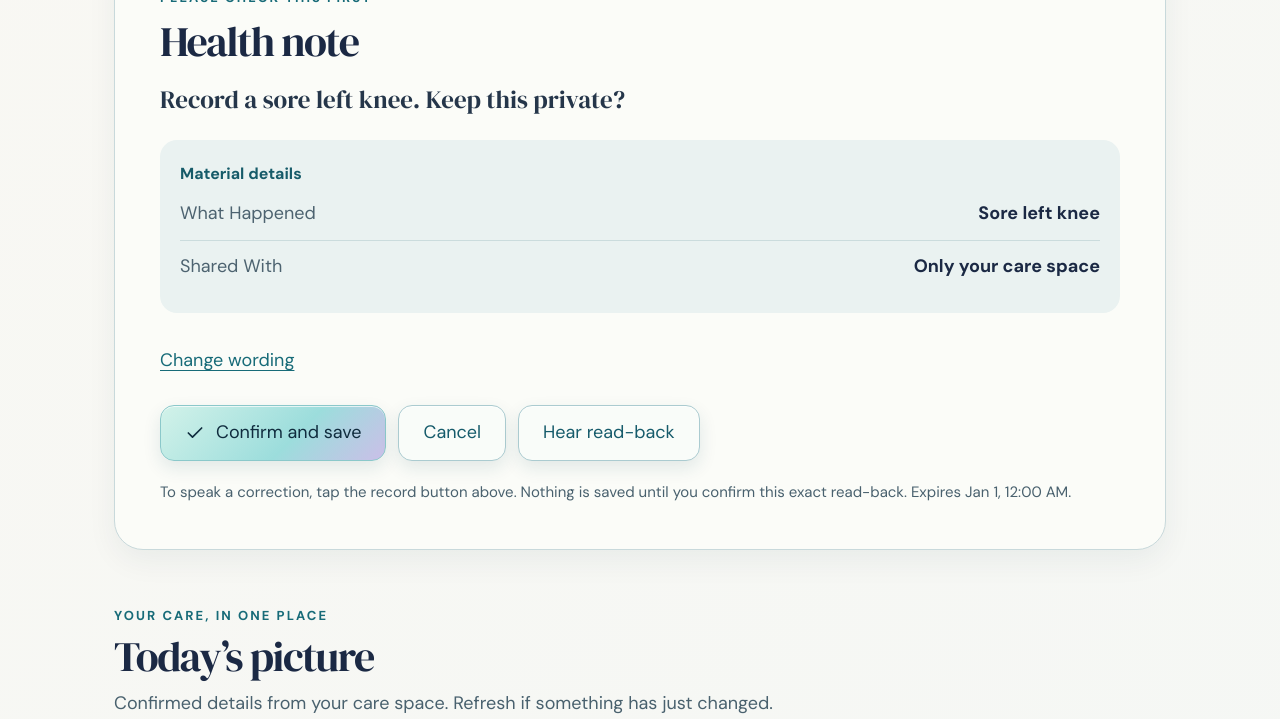
Test case: requires review and a fresh confirmation after textual health-note correction
(page scrolled)
Expected: the text "Record a sore left knee. Keep this private?" is shown, [160, 82, 625, 116]
Click the button "Change wording". click: (227, 361)
box: [160, 337, 294, 385]
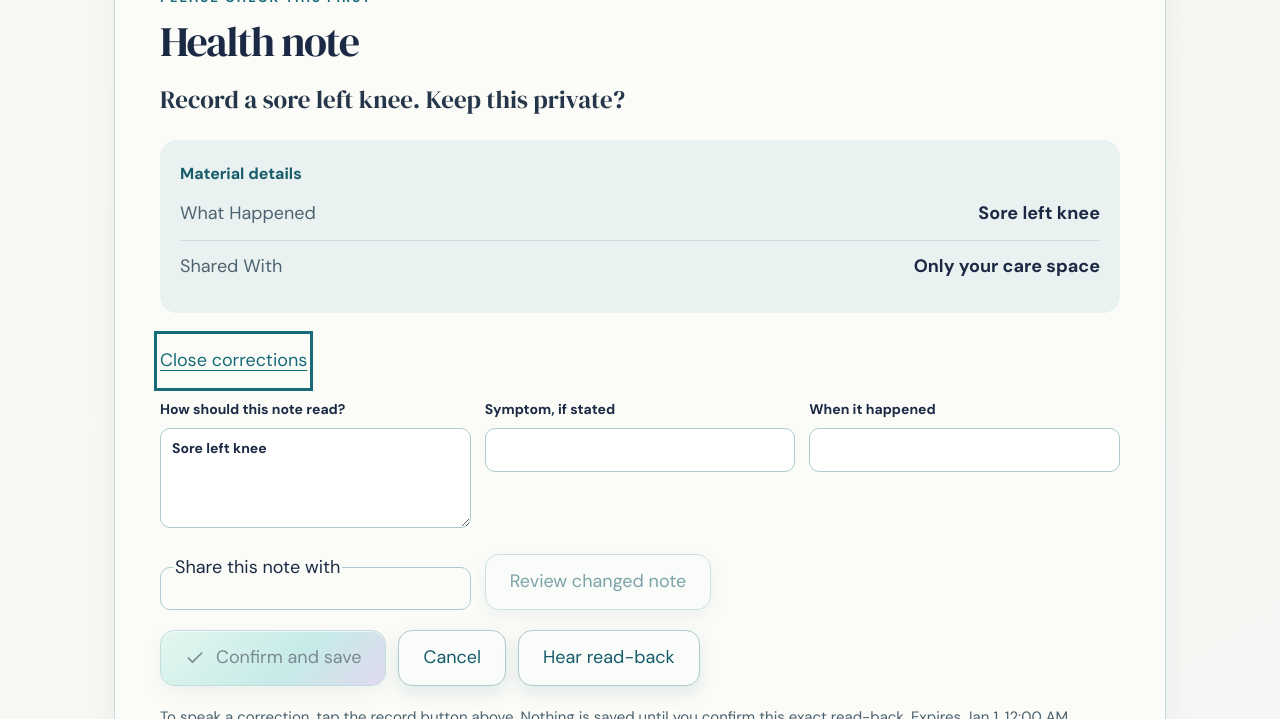
Replace the text in the text box labelled "How should this note read?" with "Sore right knee". click: (315, 478)
box: [160, 428, 471, 528]
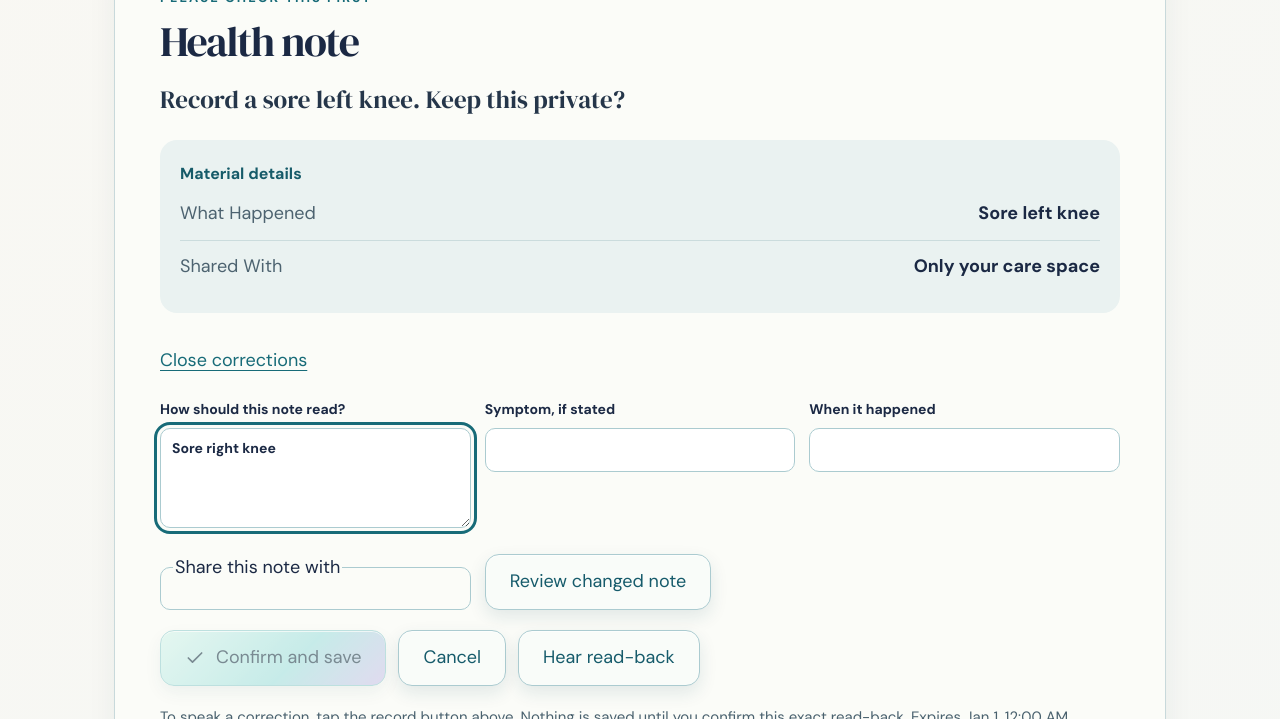
Result: the button "Confirm and save" is disabled at [160, 630, 386, 686]
Click the button "Review changed note". click: (598, 582)
box: [485, 554, 711, 610]
(page scrolled)
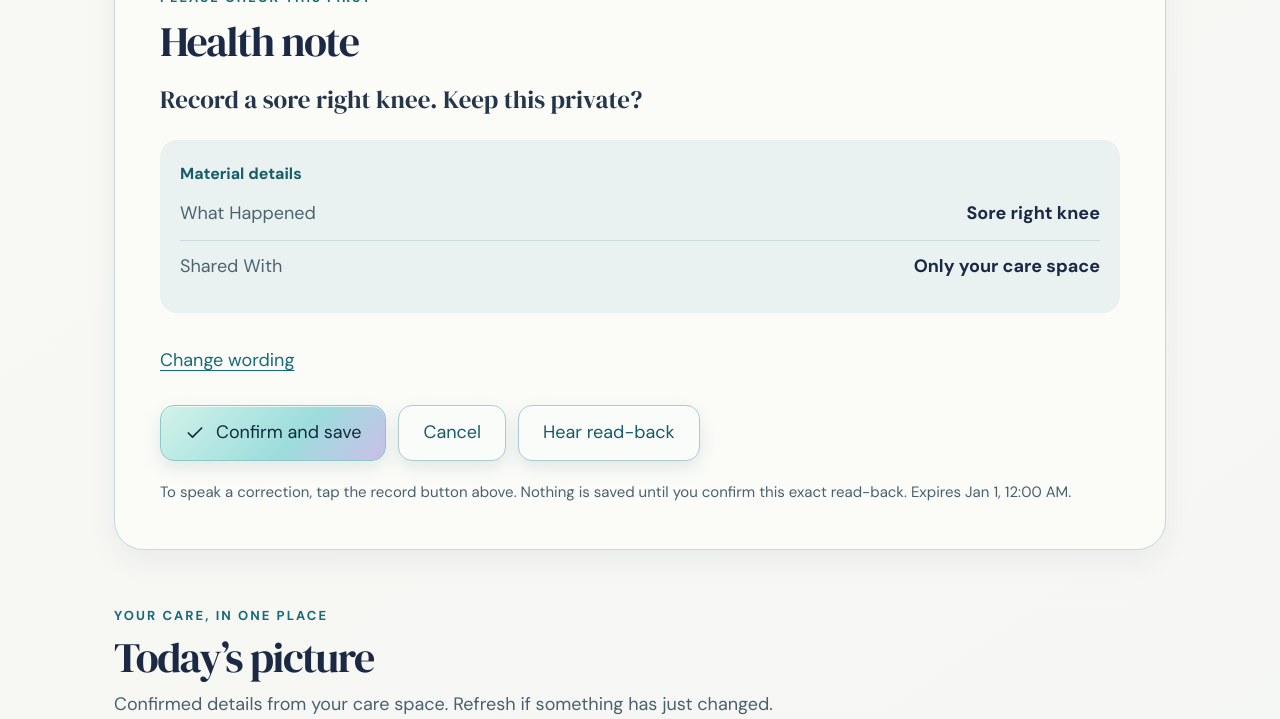
Result: the text "Record a sore right knee. Keep this private?" is shown at [160, 82, 642, 116]
Click the button "Confirm and save". click: (273, 433)
box: [160, 405, 386, 461]
(page scrolled)
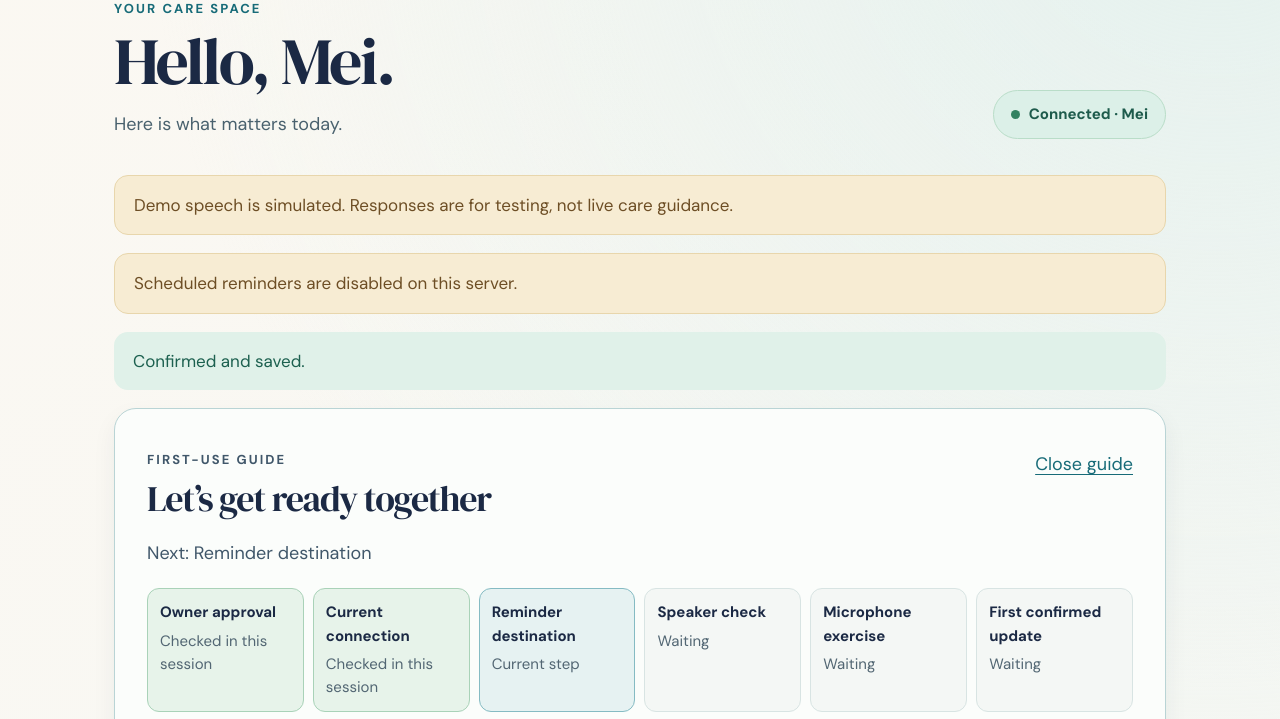
Result: the text "Confirmed and saved." is shown at [114, 332, 1166, 390]
